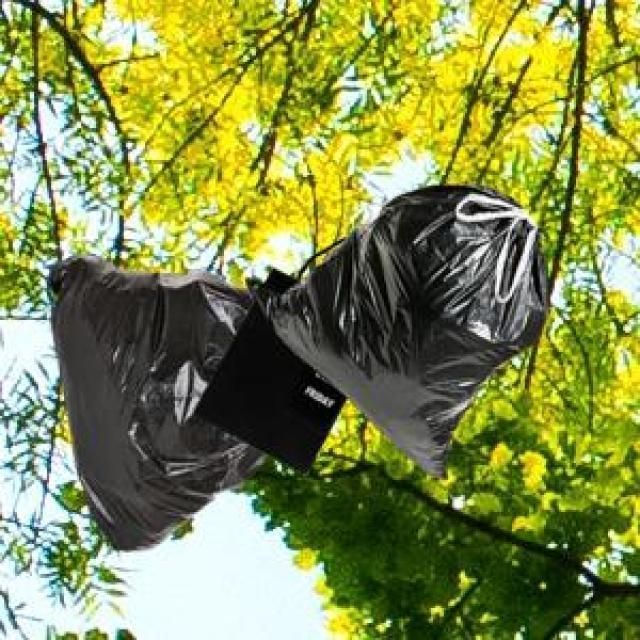miscellaneous trash: (241, 181, 544, 474), (45, 252, 262, 546)
paper: (190, 265, 344, 469)
